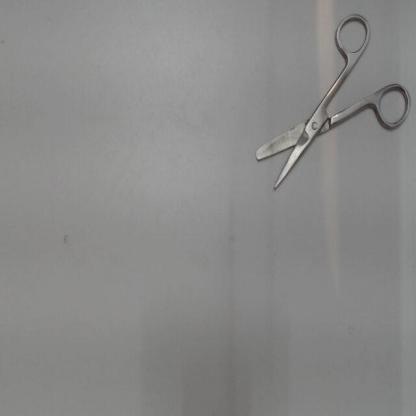Dressing Scissors: (240, 7, 416, 197)
